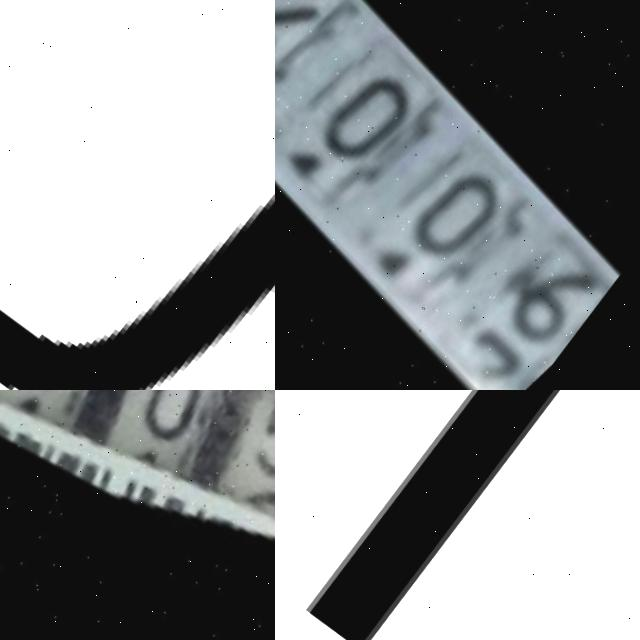0: (379, 145, 525, 300), (293, 50, 430, 196), (104, 390, 235, 479)
4: (275, 0, 333, 97)
5: (215, 390, 275, 511)
6: (479, 232, 617, 378)
J: (0, 0, 275, 390)
T: (275, 390, 640, 640)
